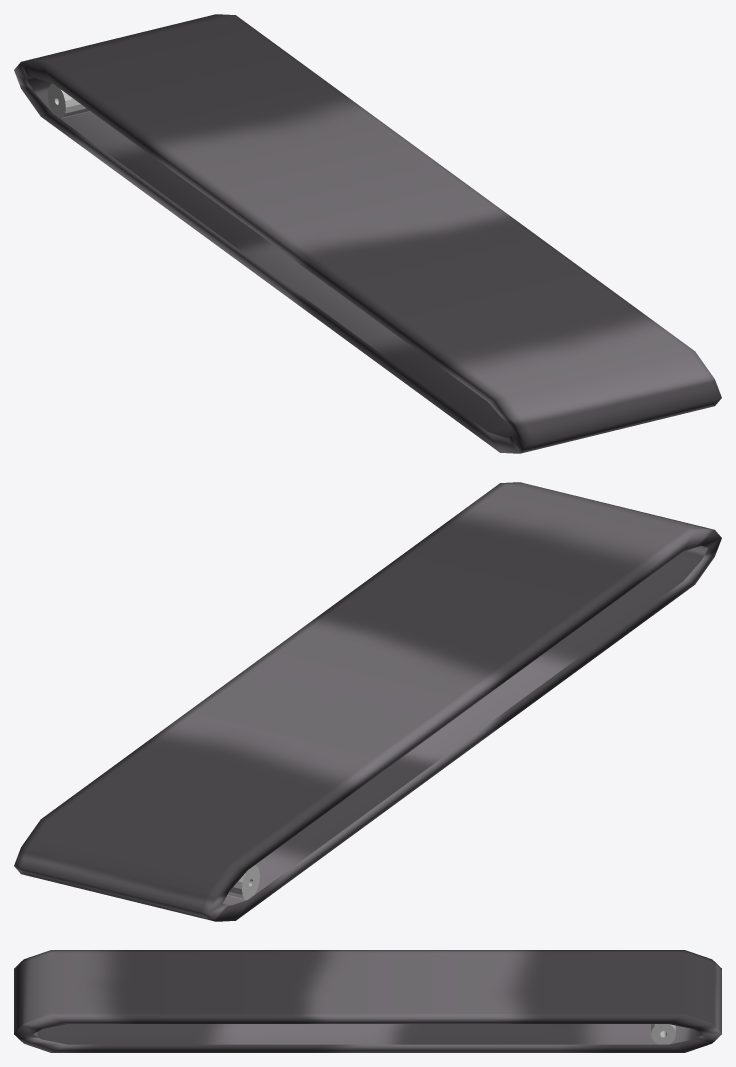
File: TreadMill 1.fbx
The picture shows the model from 3 angles, top to bottom: view 1: azimuth 30°, elevation 25°; view 2: azimuth 150°, elevation 25°; view 3: azimuth 270°, elevation 25°; orthographic projection. The views are drawn at different scales.
Parts seen in each view (by area): view 1: TreadMill, TreadMillSpinner; view 2: TreadMill; view 3: TreadMill, TreadMillSpinner.
Boxes of the visible parts, x1=… form: TreadMill: x1=14, y1=14, x2=721, y2=453; TreadMillSpinner: x1=47, y1=83, x2=90, y2=118; TreadMill: x1=14, y1=482, x2=721, y2=921; TreadMill: x1=14, y1=950, x2=721, y2=1052; TreadMillSpinner: x1=651, y1=1024, x2=675, y2=1044.
Bounding box in the file's own units: 200 × 52.79 × 911.
